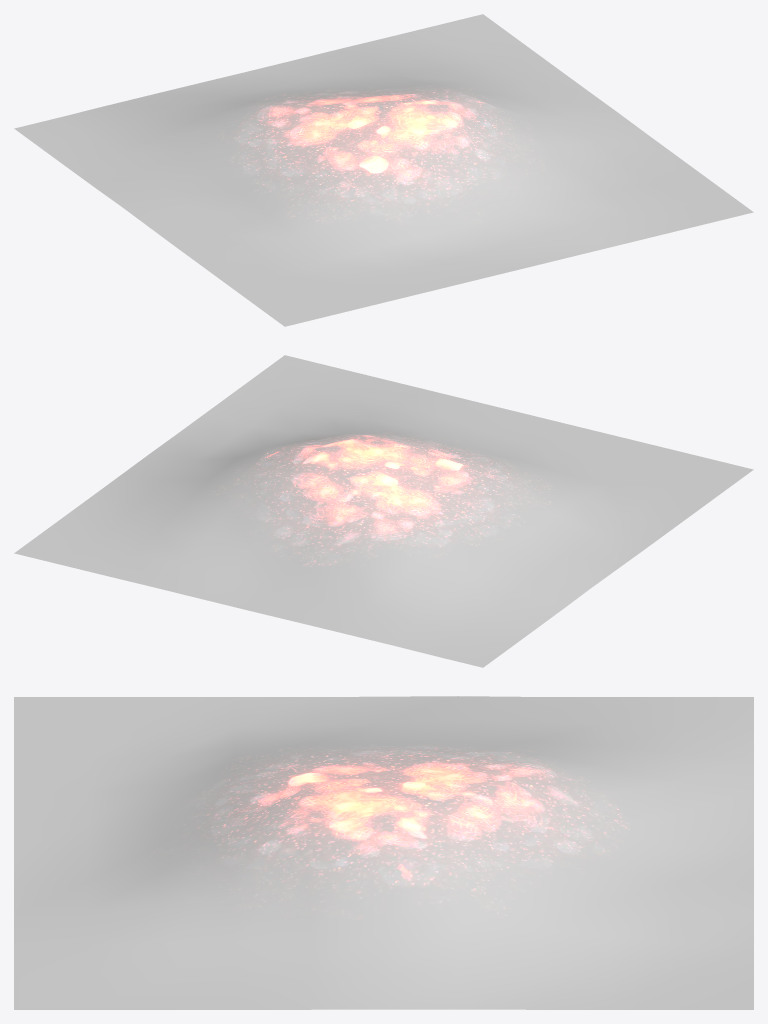
3 views of the same model, one above another, from view 1: azimuth 30°, elevation 25°; view 2: azimuth 150°, elevation 25°; view 3: azimuth 270°, elevation 25° (orthographic). The views are drawn at different scales.
Parts seen in each view (by area): view 1: SM_Campfire_01_Ashes_LOD0; view 2: SM_Campfire_01_Ashes_LOD0; view 3: SM_Campfire_01_Ashes_LOD0.
Part boxes in pixels (x1,y1,x2,y2): SM_Campfire_01_Ashes_LOD0: [14, 14, 753, 326]; SM_Campfire_01_Ashes_LOD0: [14, 355, 753, 667]; SM_Campfire_01_Ashes_LOD0: [14, 696, 753, 1009].
Bounding box in the file's own units: 1.1 × 0.1144 × 1.1.
